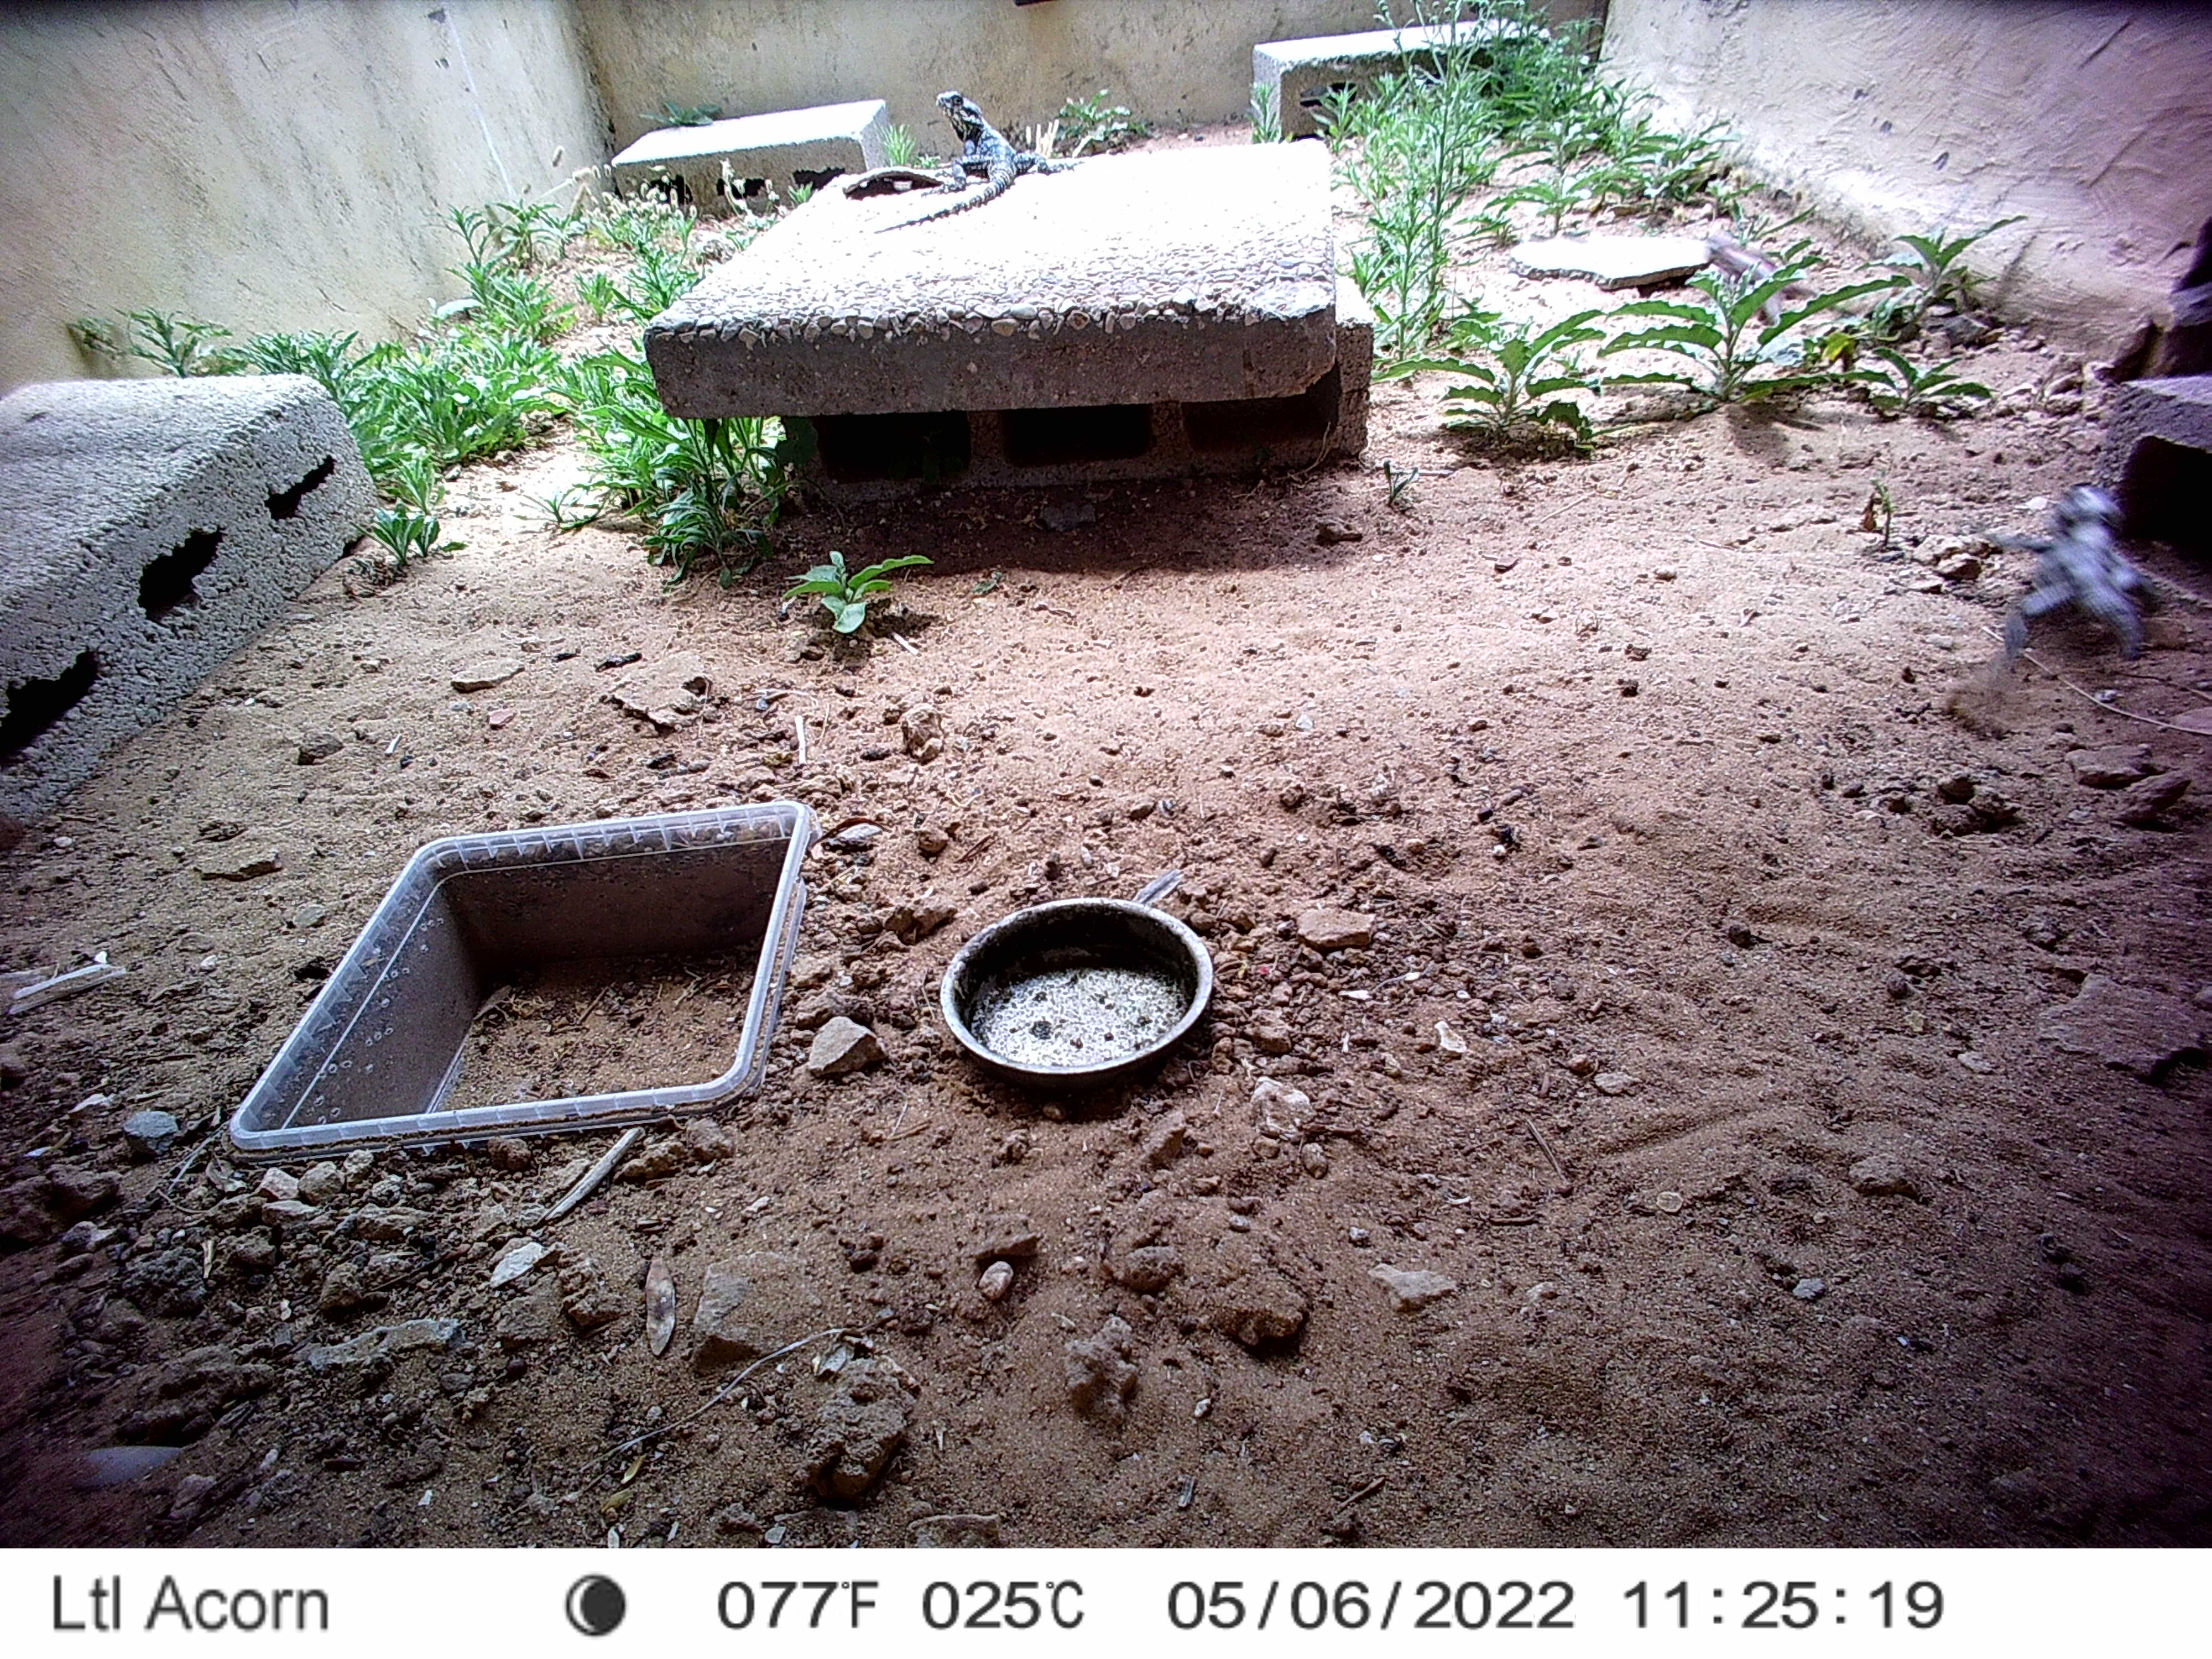lizard: (1968, 479, 2158, 694), (900, 89, 1064, 225), (1702, 230, 1806, 314)
